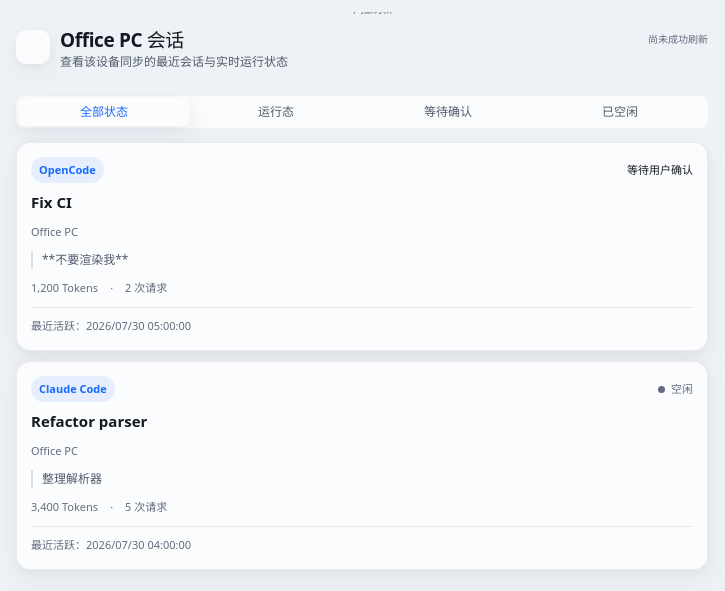
it: MobileDeviceSessionsPage › filters sessions through the status button group
expect the text "Fix CI" is shown: met, box [31,192,72,212]
Click the button "已空闲" at (620, 112), box [534,98,706,126]
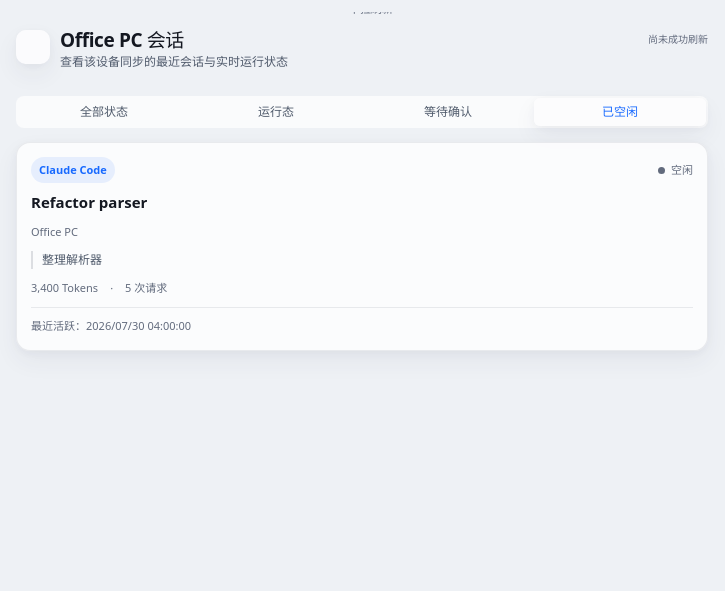
expect the text "Refactor parser" is shown: met, box [31,192,147,212]
expect the button "Fix CI" is gone: met
Click the button "等待确认" at (448, 112), box [362,98,534,126]
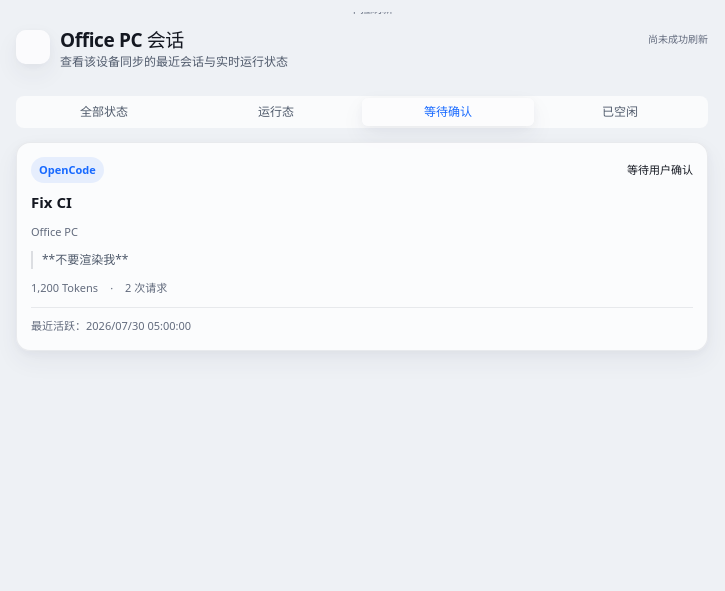
expect the text "Fix CI" is shown: met, box [31,192,72,212]
expect the button "Refactor parser" is gone: met
